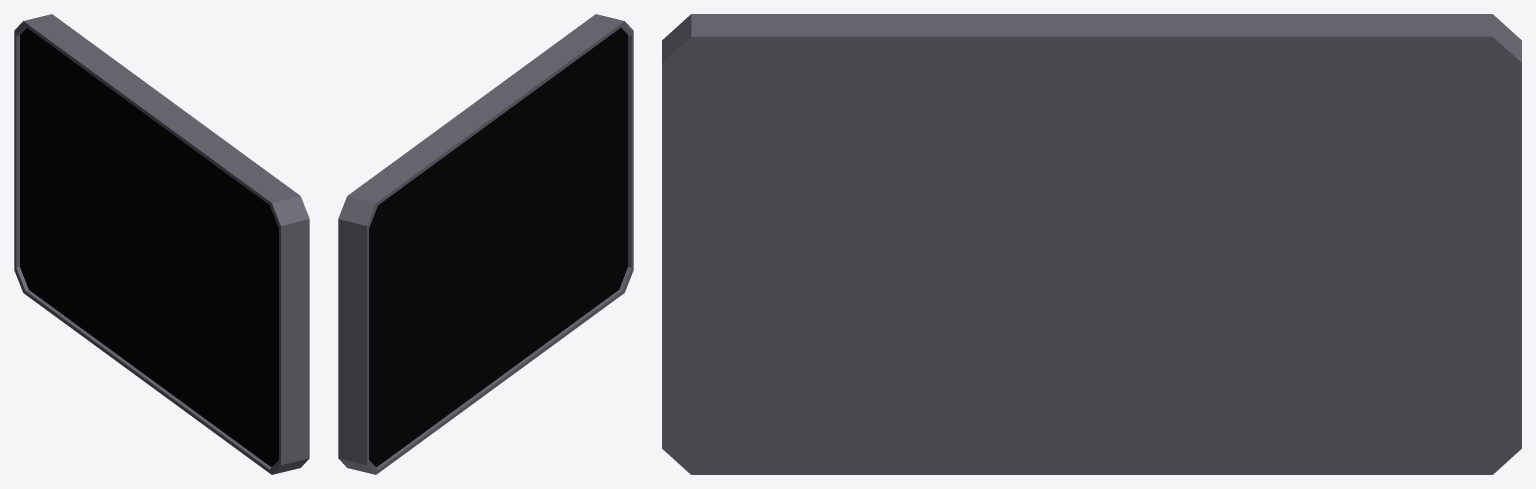
3 views of the same model, side by side, from view 1: azimuth 30°, elevation 25°; view 2: azimuth 150°, elevation 25°; view 3: azimuth 270°, elevation 25° (orthographic). The views are drawn at different scales.
Parts seen in each view (by area): view 1: TV; view 2: TV; view 3: TV.
Boxes of the visible parts, bbox=[...] form: TV: bbox=[14, 14, 309, 474]; TV: bbox=[338, 14, 633, 474]; TV: bbox=[662, 14, 1521, 474].
Size of the model in its own units: 20 by 180 by 320.
